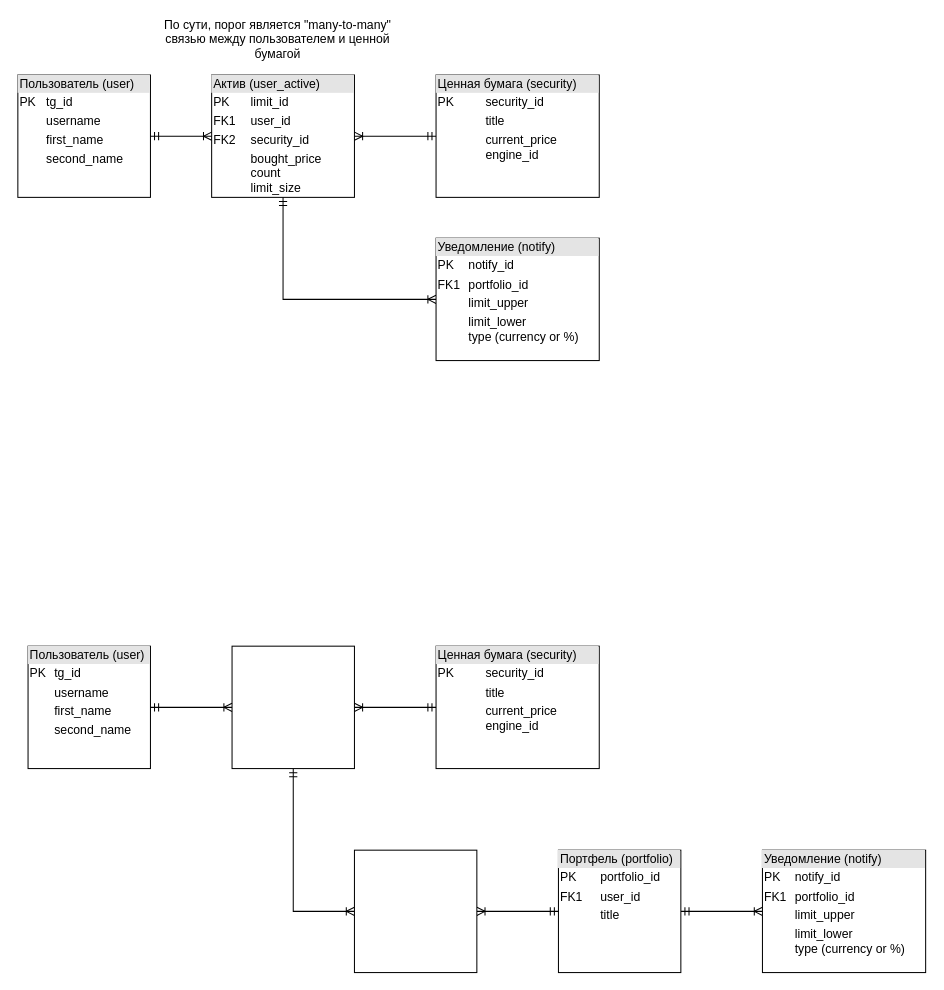
This 944x990 diagram has some shape labels left out. The centre of each missing label's shape, as x and y in pixels:
(portfolio - active) PK portfolio_id FK1 active_id title: the point at 415,911
Актив (user_active) PK active_id FK1 user_id FK2 security_id bought_price count: the point at 292,707
